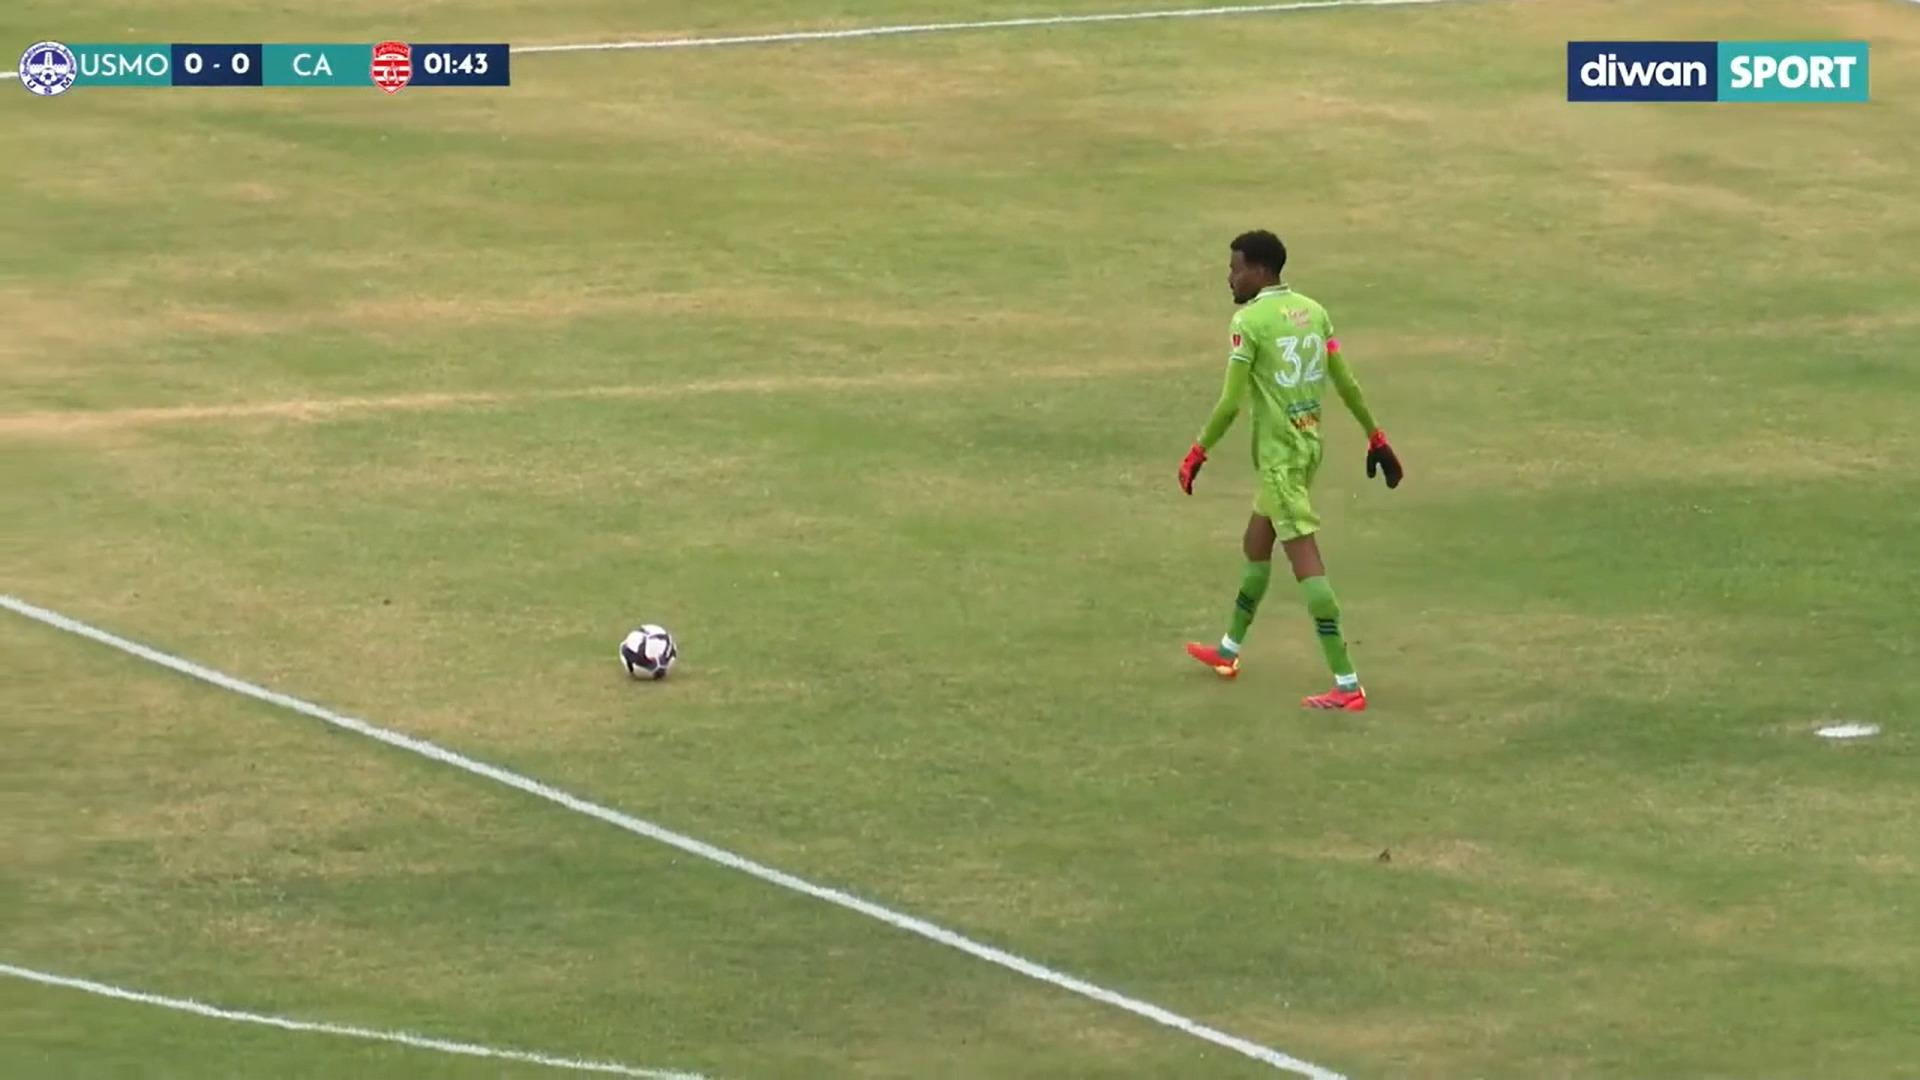ball: (613, 616, 694, 694)
goalkeeper: (1166, 208, 1425, 733)
